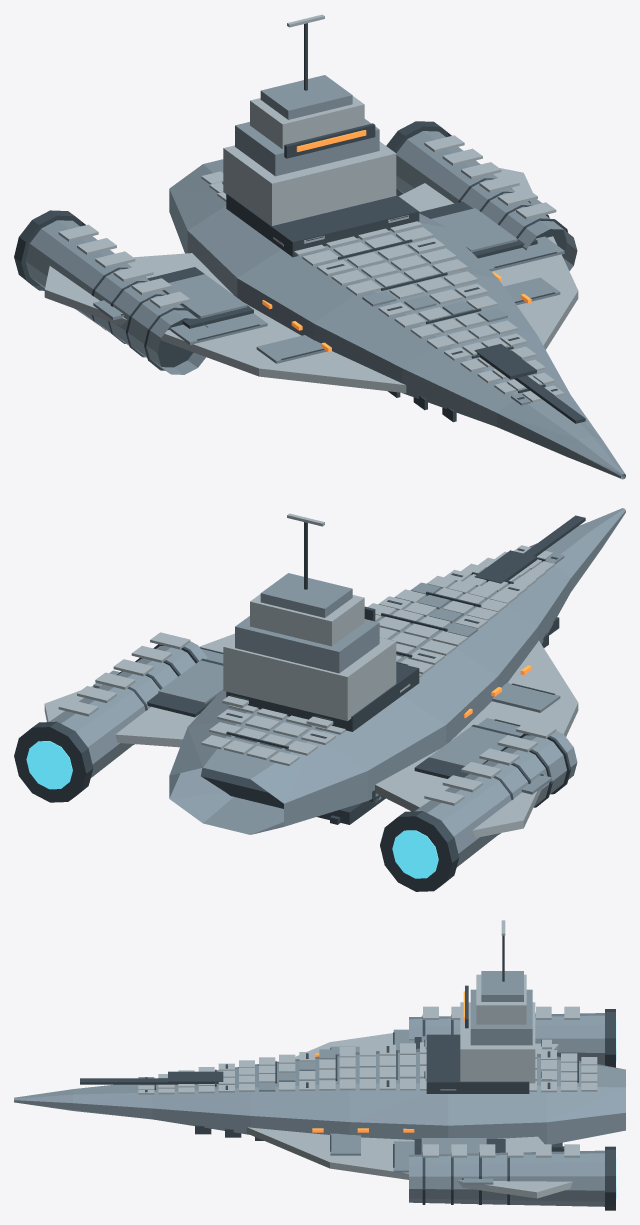
Rendered from nebula3-By62VrLG.glb.
The picture shows the model from 3 angles, top to bottom: view 1: azimuth 30°, elevation 25°; view 2: azimuth 150°, elevation 25°; view 3: azimuth 270°, elevation 25°; orthographic projection. The views are drawn at different scales.
Visible parts, largest first — view 1: Armored capital ship hull; view 2: Armored capital ship hull; view 3: Armored capital ship hull.
Boxes of the visible parts, box(x1,y1,x2,y2) form: Armored capital ship hull: box(14, 14, 625, 479); Armored capital ship hull: box(14, 508, 625, 891); Armored capital ship hull: box(14, 920, 625, 1210).
Bounding box in the file's own units: 21.6 × 11.86 × 31.
